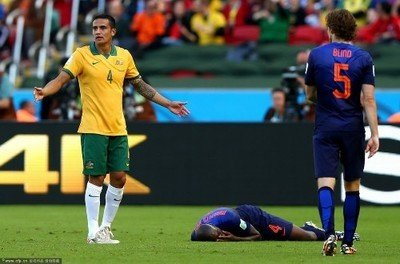10+: (1, 1, 400, 264)
down: (187, 203, 327, 245)
